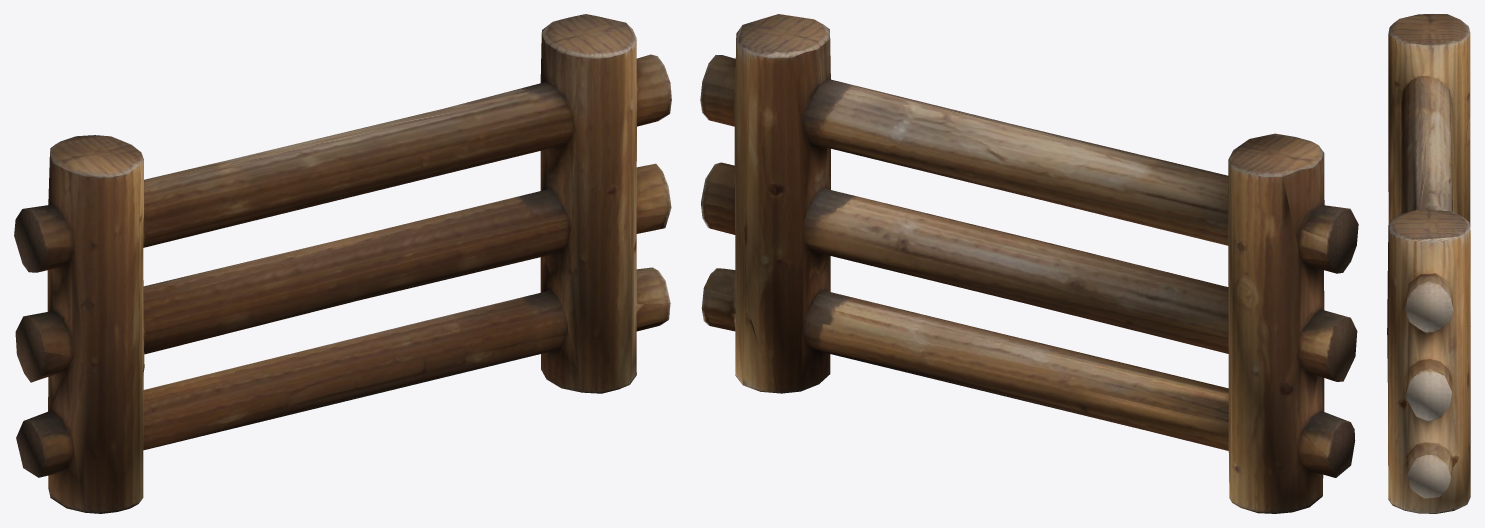
File: fence_west.glb
The picture shows the model from 3 angles, left to right: view 1: azimuth 30°, elevation 25°; view 2: azimuth 150°, elevation 25°; view 3: azimuth 270°, elevation 25°; orthographic projection. The views are drawn at different scales.
Parts seen in each view (by area): view 1: geometry_0; view 2: geometry_0; view 3: geometry_0.
Boxes of the visible parts, <box> form: geometry_0: <box>14,14,671,513</box>; geometry_0: <box>700,14,1358,513</box>; geometry_0: <box>1387,14,1470,513</box>.
Bounding box in the file's own units: 2.5 × 1.29 × 0.3562.
1 material, 1 textured.
